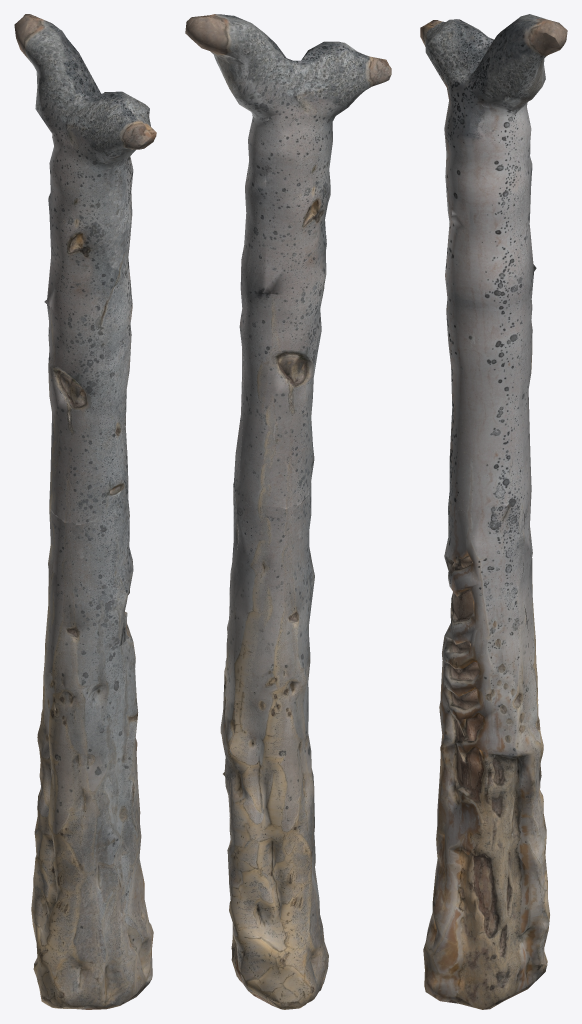
The model's file is dead_quiver_trunk.glb.
3 views of the same model, side by side, from view 1: azimuth 90°, elevation 25°; view 2: azimuth 150°, elevation 25°; view 3: azimuth 270°, elevation 25° (orthographic). The views are drawn at different scales.
Visible parts, largest first — view 1: model; view 2: model; view 3: model.
Boxes of the visible parts, x1,y1,x2,y2 form: model: (14,14,156,1009); model: (185,14,391,1009); model: (420,14,567,1009).
Size of the model in its own units: 0.3069 by 1.99 by 0.2672.
1 material, 1 textured.
